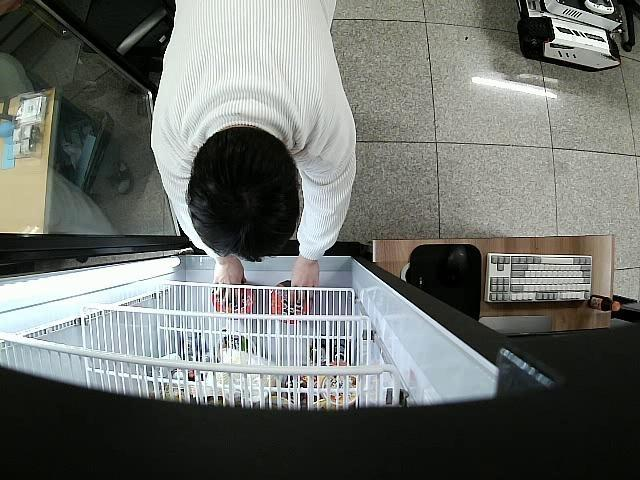01_ShinRamen_L: (270, 280, 314, 325), (213, 284, 256, 318)
